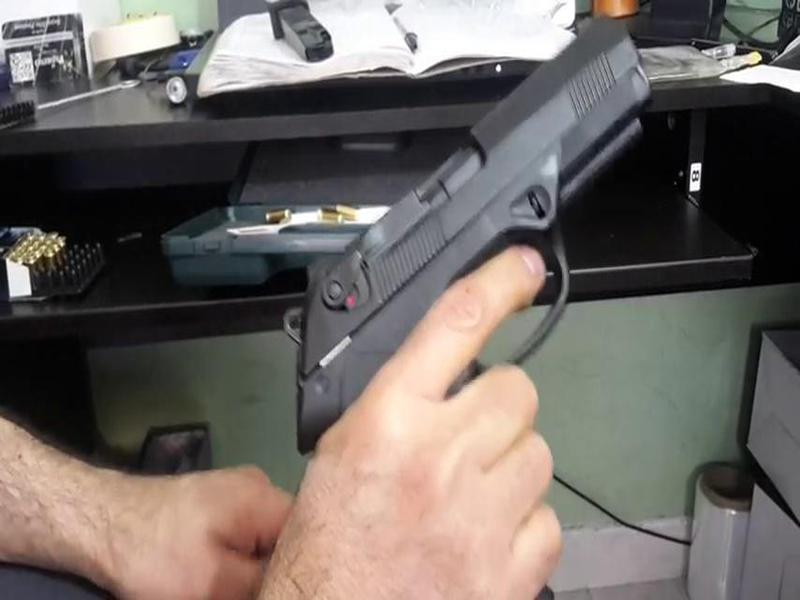Pistola: (278, 3, 676, 471)
